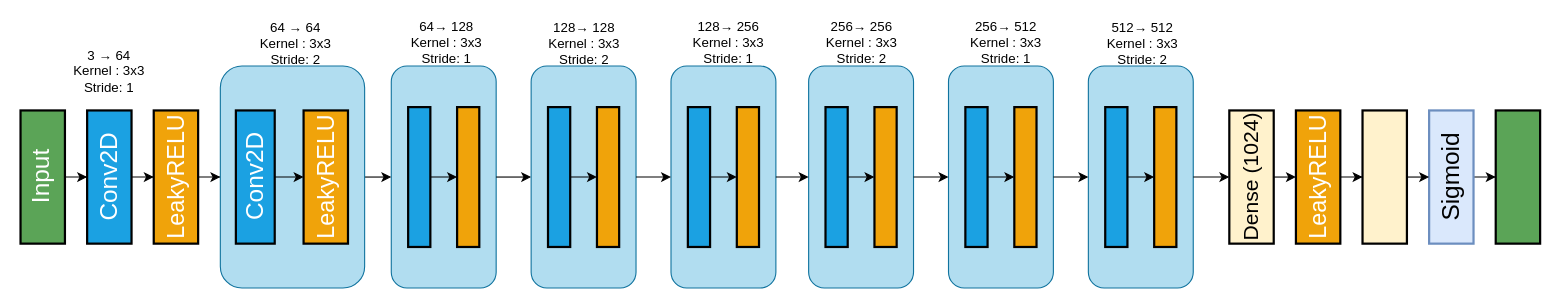
This 1560x307 diagram has some shape labels left out. The shapes that lost their labels are listed below. From the top down, each one's centre as x and y in pixels, then its label:
the point at 1384,176: Dense (1)
the point at 1517,176: Ouput
